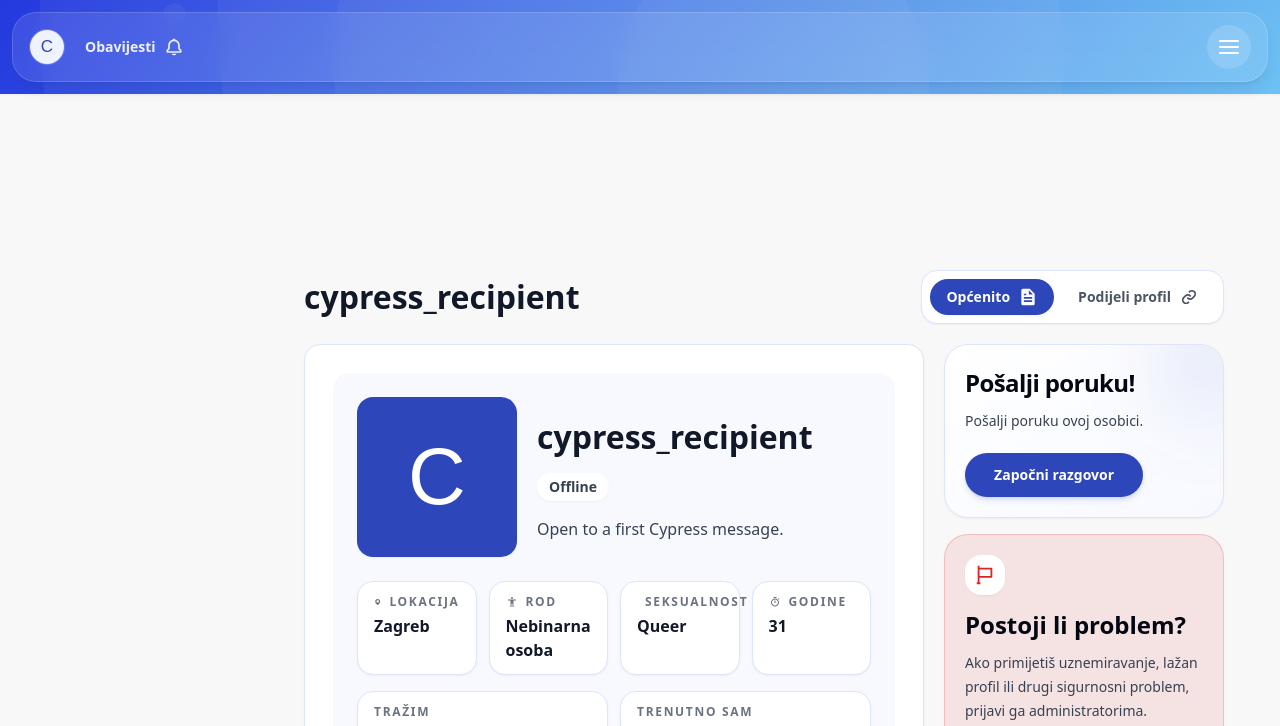
Test case: user sends first message › creates a chat and sends the first text message
This screenshot has width=1280, height=726.
Expected: the heading "cypress_recipient" in the row of "Općenito" is shown, [304,275,580,318]
Click the button "Započni razgovor" at point(1054, 475), box [965,453,1143,497]
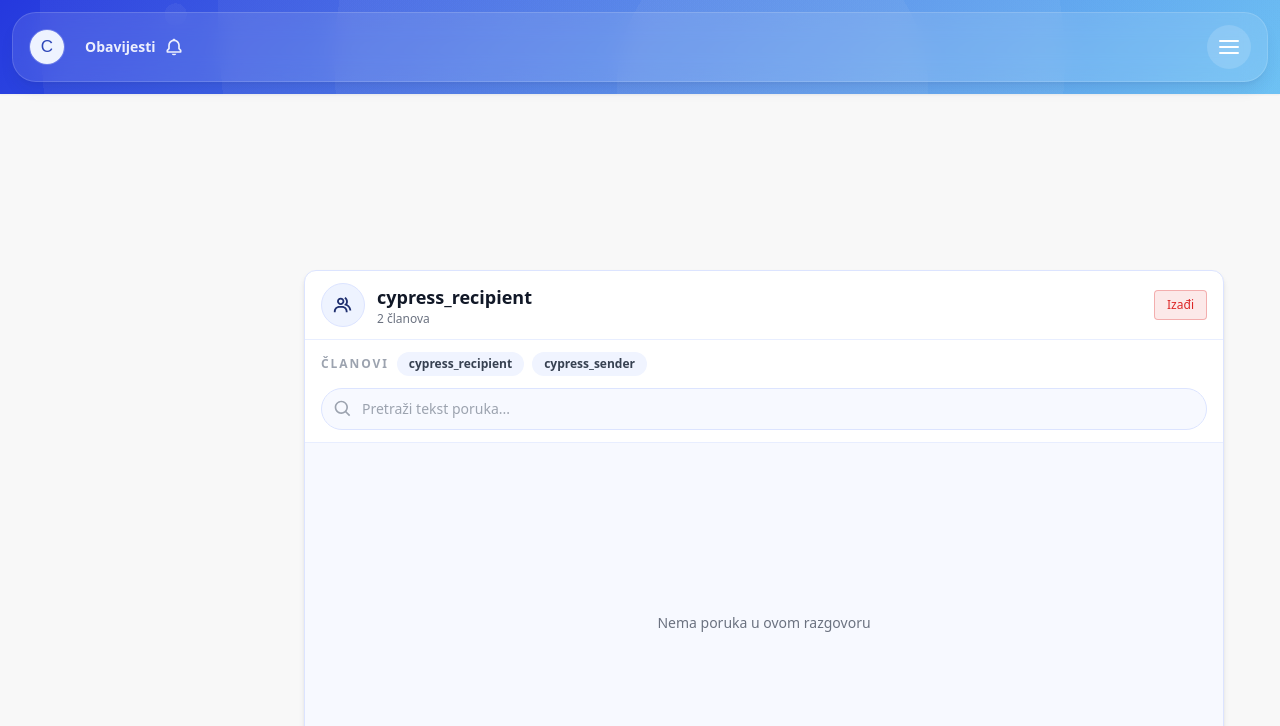
Expected: the text "Nema poruka u ovom razgovoru" is shown, [657,613,871,633]
Scroll
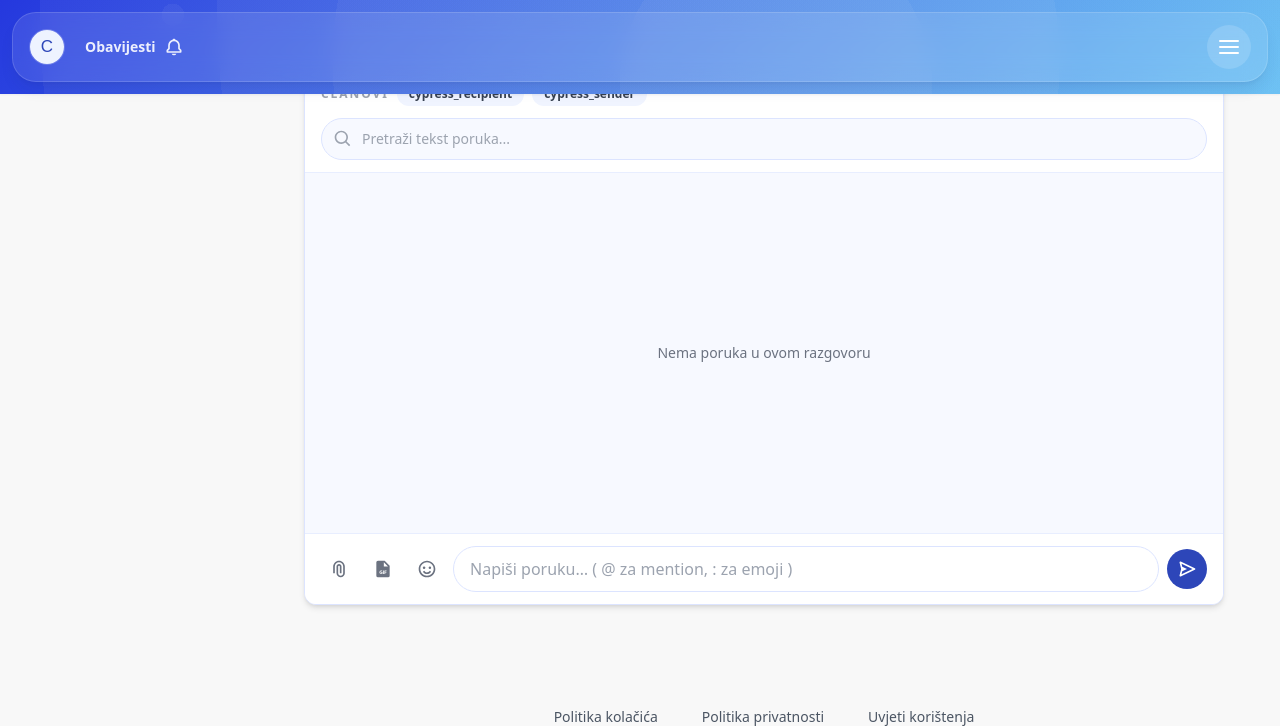
Type "Hey from Cypress, this is our first message." into the field with placeholder "Napiši poruku… ( @ za mention, : za emoji )" at point(806, 569), box [453,546,1159,592]
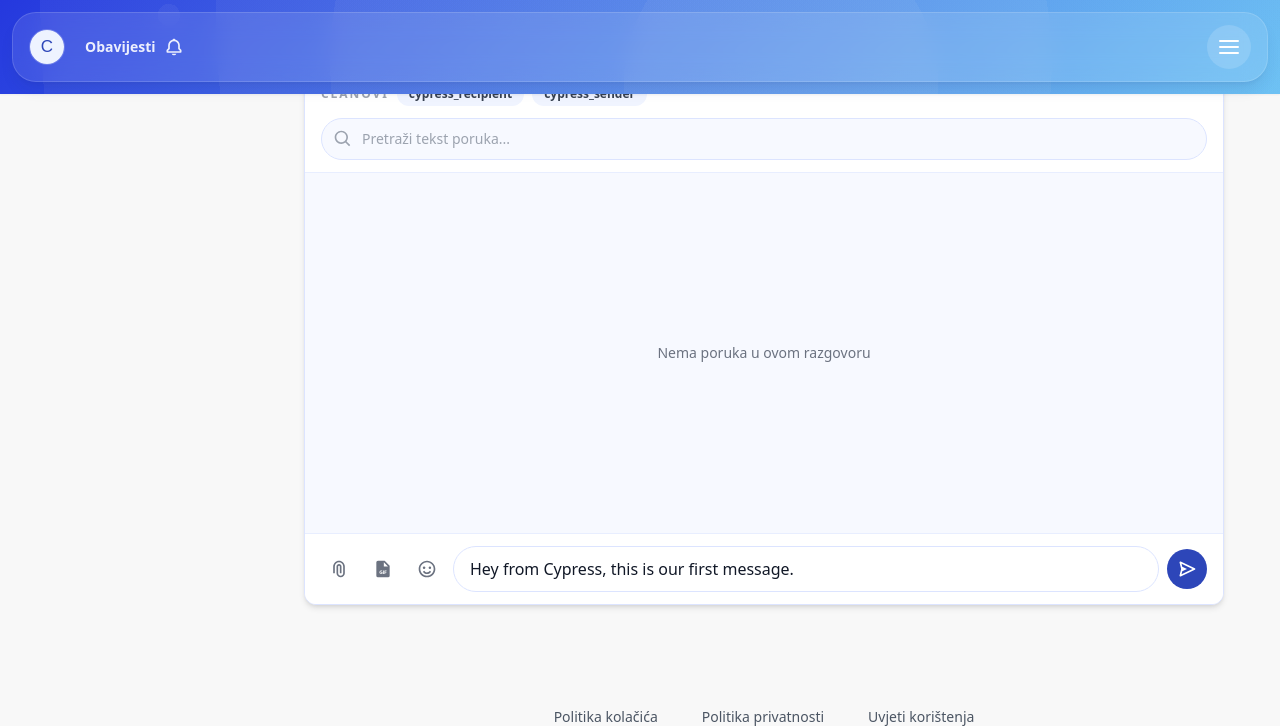
Click the submit button at point(1187, 569), box [1167,549,1207,589]
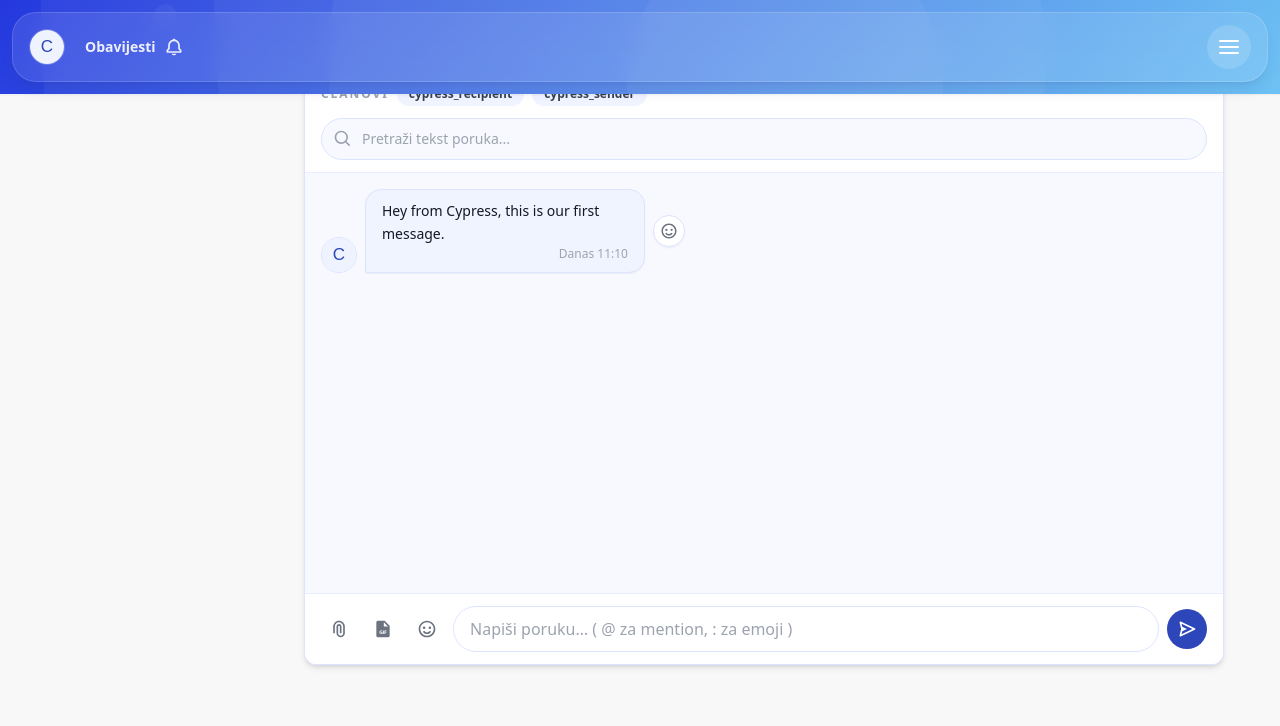
Expected: the text "Hey from Cypress, this is our first message." is shown, [382,200,628,246]
